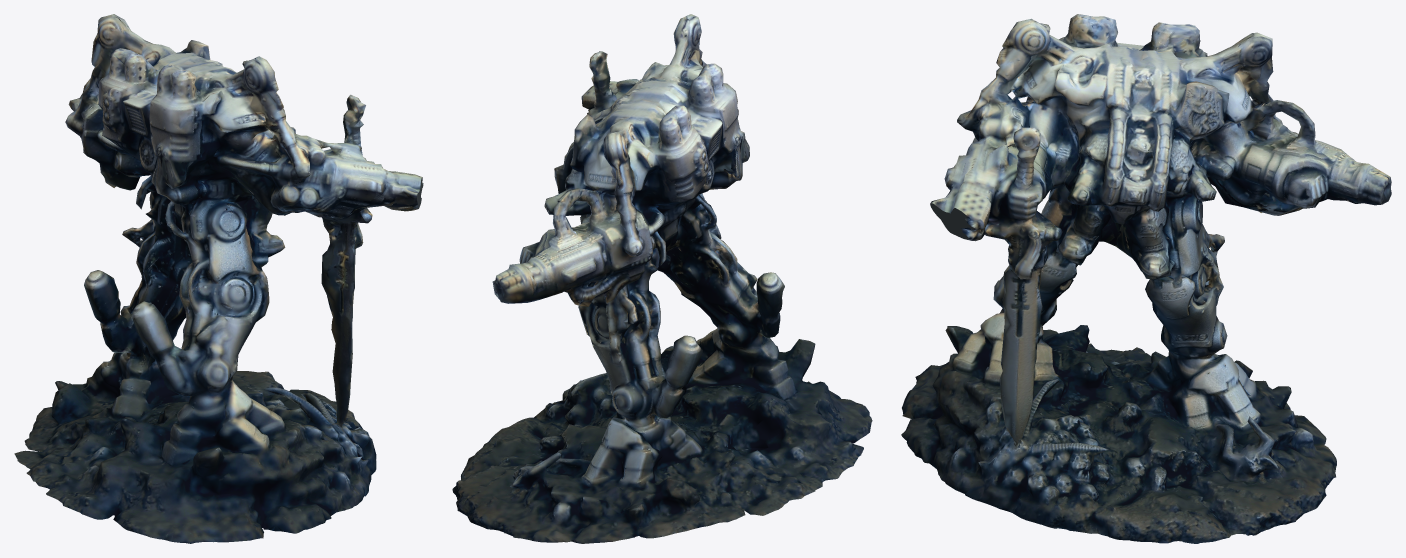
File: GKmodel.glb
3 renders of one model, left to right at view 1: azimuth 30°, elevation 25°; view 2: azimuth 150°, elevation 25°; view 3: azimuth 270°, elevation 25°, orthographic. The views are drawn at different scales.
Visible parts, largest first — view 1: GKmodel; view 2: GKmodel; view 3: GKmodel.
Boxes of the visible parts, box(x1,y1,x2,y2) form: GKmodel: box(14, 14, 423, 543); GKmodel: box(452, 14, 872, 543); GKmodel: box(901, 14, 1391, 543).
Bounding box in the file's own units: 2.07 × 2.65 × 2.6.
Materials: 1 (1 with a texture image).
